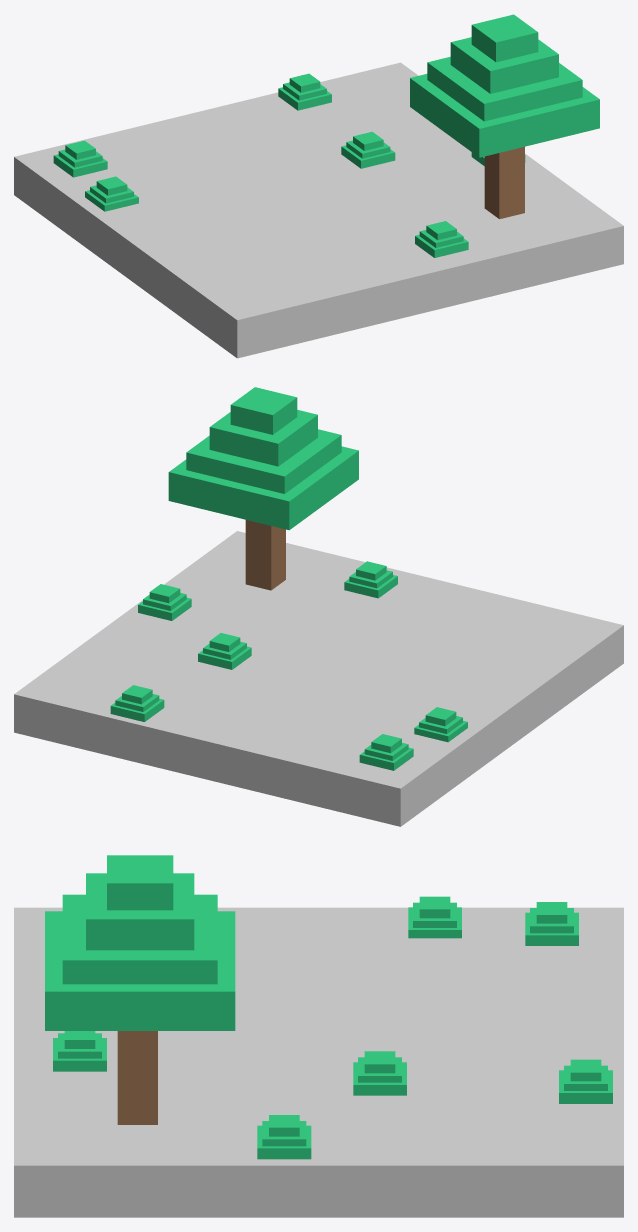
Rendered from hub1.glb.
The picture shows the model from 3 angles, top to bottom: view 1: azimuth 30°, elevation 25°; view 2: azimuth 150°, elevation 25°; view 3: azimuth 270°, elevation 25°; orthographic projection. The views are drawn at different scales.
Parts seen in each view (by area): view 1: Cube, folage.006, branche, folage.002, folage.003, folage, folage.005, folage.001; view 2: Cube, folage.006, branche, folage.005, folage.004, folage, folage.002, folage.003, folage.001; view 3: Cube, folage.006, branche, folage.004, folage.002, folage.005, folage, folage.001, folage.003.
Boxes of the visible parts, x1,y1,x2,y2 form: Cube: (14, 62, 623, 358); folage.006: (410, 14, 599, 157); branche: (484, 146, 524, 219); folage.002: (341, 131, 395, 168); folage.003: (415, 221, 468, 257); folage: (53, 140, 107, 177); folage.005: (278, 73, 331, 110); folage.001: (85, 176, 138, 211); Cube: (14, 531, 623, 826); folage.006: (168, 387, 358, 530); branche: (245, 520, 285, 590); folage.005: (110, 685, 164, 721); folage.004: (138, 584, 191, 620); folage: (359, 734, 413, 770); folage.002: (198, 633, 251, 669); folage.003: (344, 561, 397, 598); folage.001: (414, 707, 467, 742); Cube: (14, 907, 623, 1217); folage.006: (45, 855, 235, 1030); branche: (117, 1031, 157, 1124); folage.004: (257, 1115, 311, 1159); folage.002: (353, 1051, 406, 1095); folage.005: (559, 1059, 612, 1103); folage: (525, 902, 578, 945); folage.001: (408, 896, 461, 938); folage.003: (53, 1031, 106, 1071).
Size of the model in its own units: 4.64 by 2.52 by 4.64.
